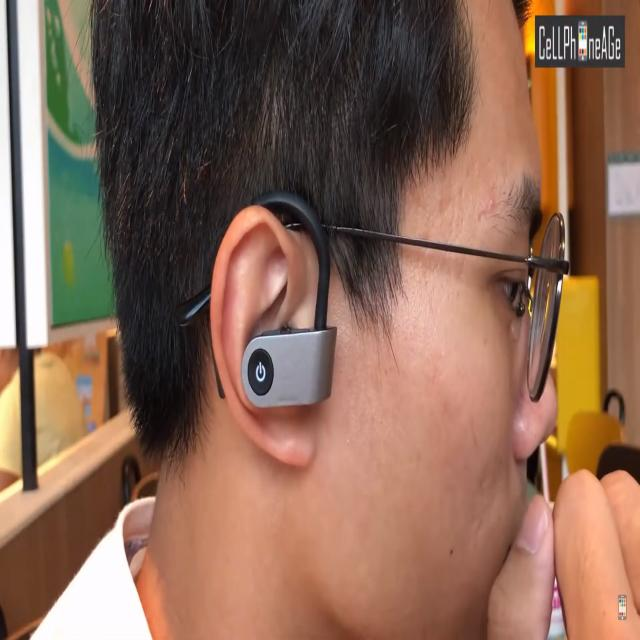airpods: (209, 190, 338, 411)
